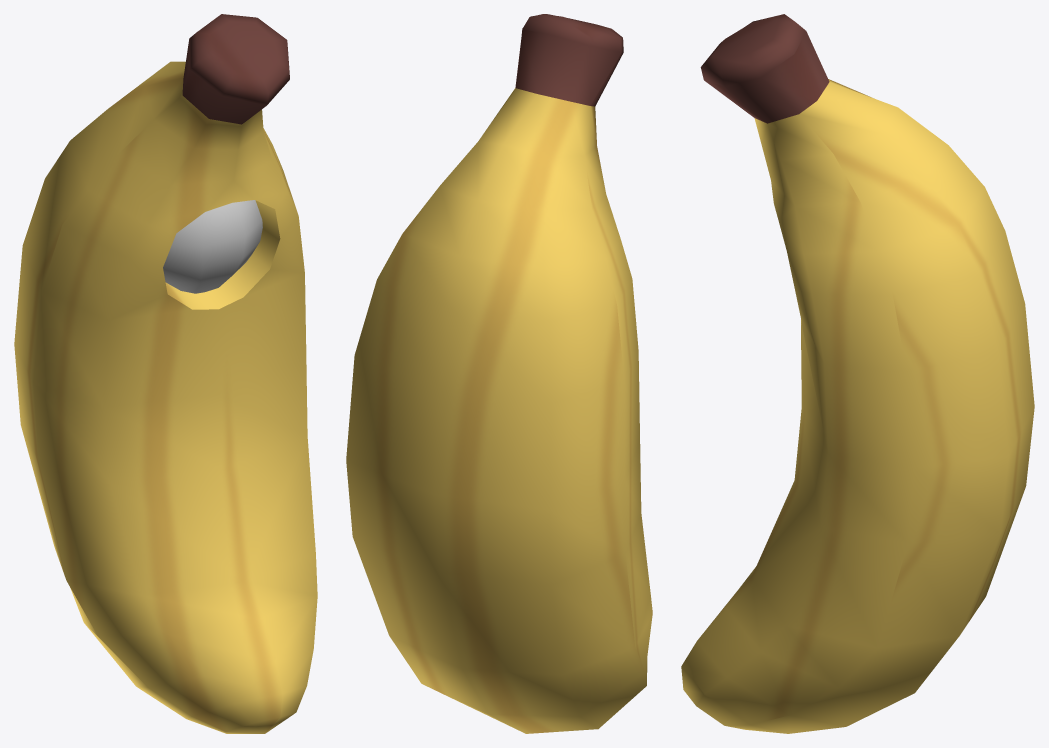
The model's file is Peg_BananaSuit.fbx.
3 views of the same model, side by side, from view 1: azimuth 30°, elevation 25°; view 2: azimuth 150°, elevation 25°; view 3: azimuth 270°, elevation 25° (orthographic).
Parts seen in each view (by area): view 1: Peg_BananaSuit; view 2: Peg_BananaSuit; view 3: Peg_BananaSuit.
Boxes of the visible parts, box(x1,y1,x2,y2) form: Peg_BananaSuit: box(14, 14, 317, 733); Peg_BananaSuit: box(346, 14, 652, 733); Peg_BananaSuit: box(681, 14, 1034, 733).
Bounding box in the file's own units: 3.24 × 8.41 × 3.83.
